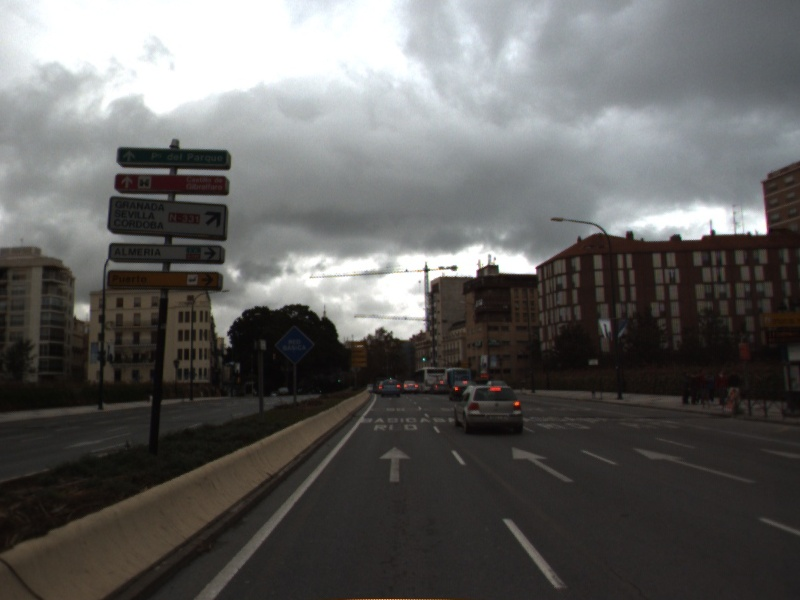STRAIGHT: (630, 445, 759, 485), (509, 444, 577, 484), (376, 444, 414, 484)
